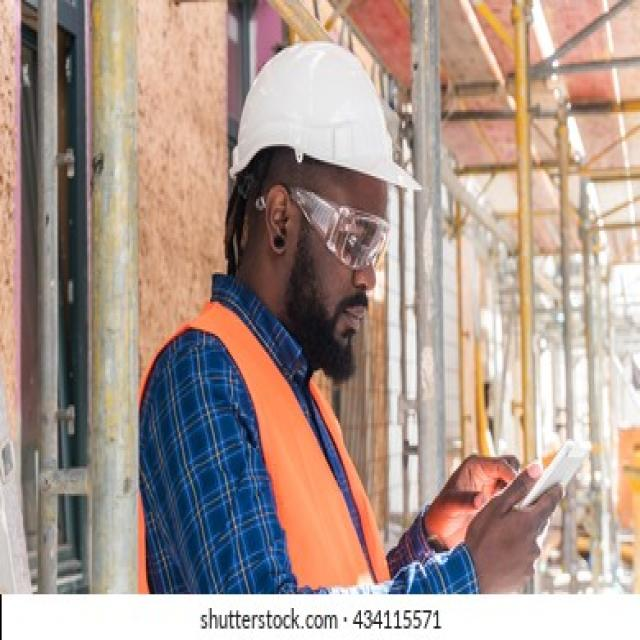goggles: (285, 174, 404, 280)
helmet: (216, 36, 432, 200)
vest: (139, 300, 395, 596)
